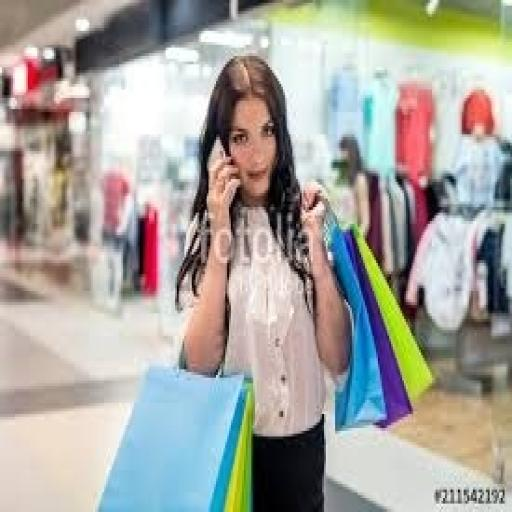calling: (173, 50, 354, 510)
